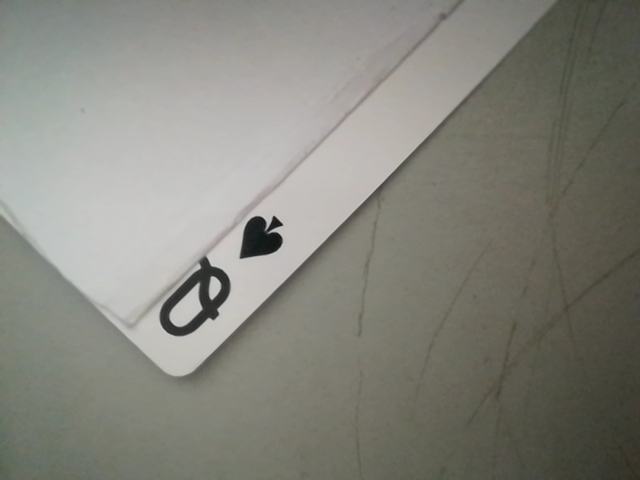ht q: (150, 206, 295, 367)
